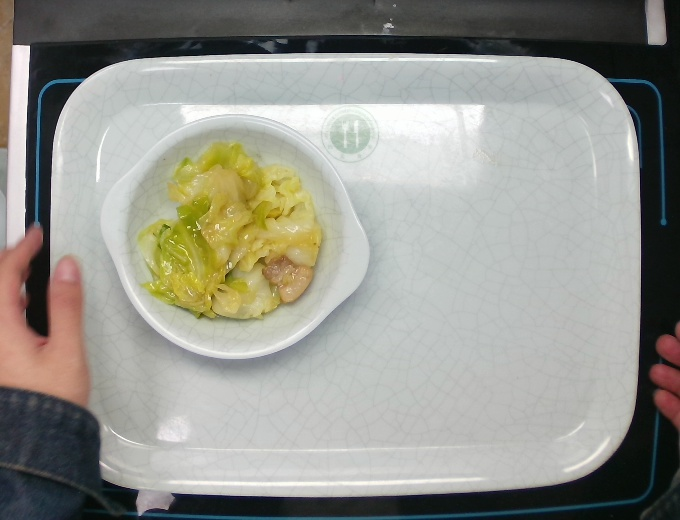JYsf-Shuang_Er_Wan: (103, 112, 372, 365)
